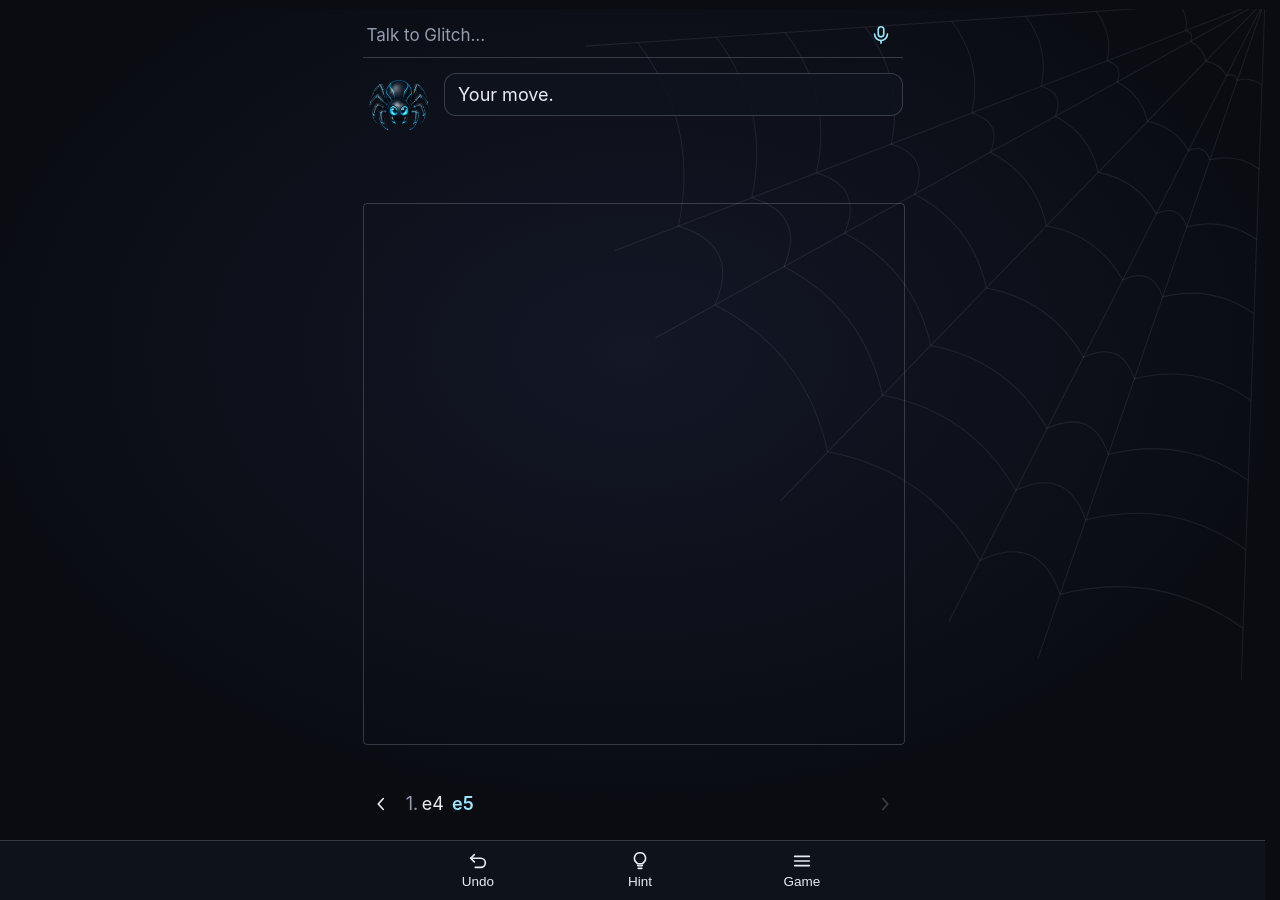
Test case: draw button › offers a draw while nothing is claimable, and relays the answer
Click the button "Game".
click(802, 870)  # box [721,840,883,899]
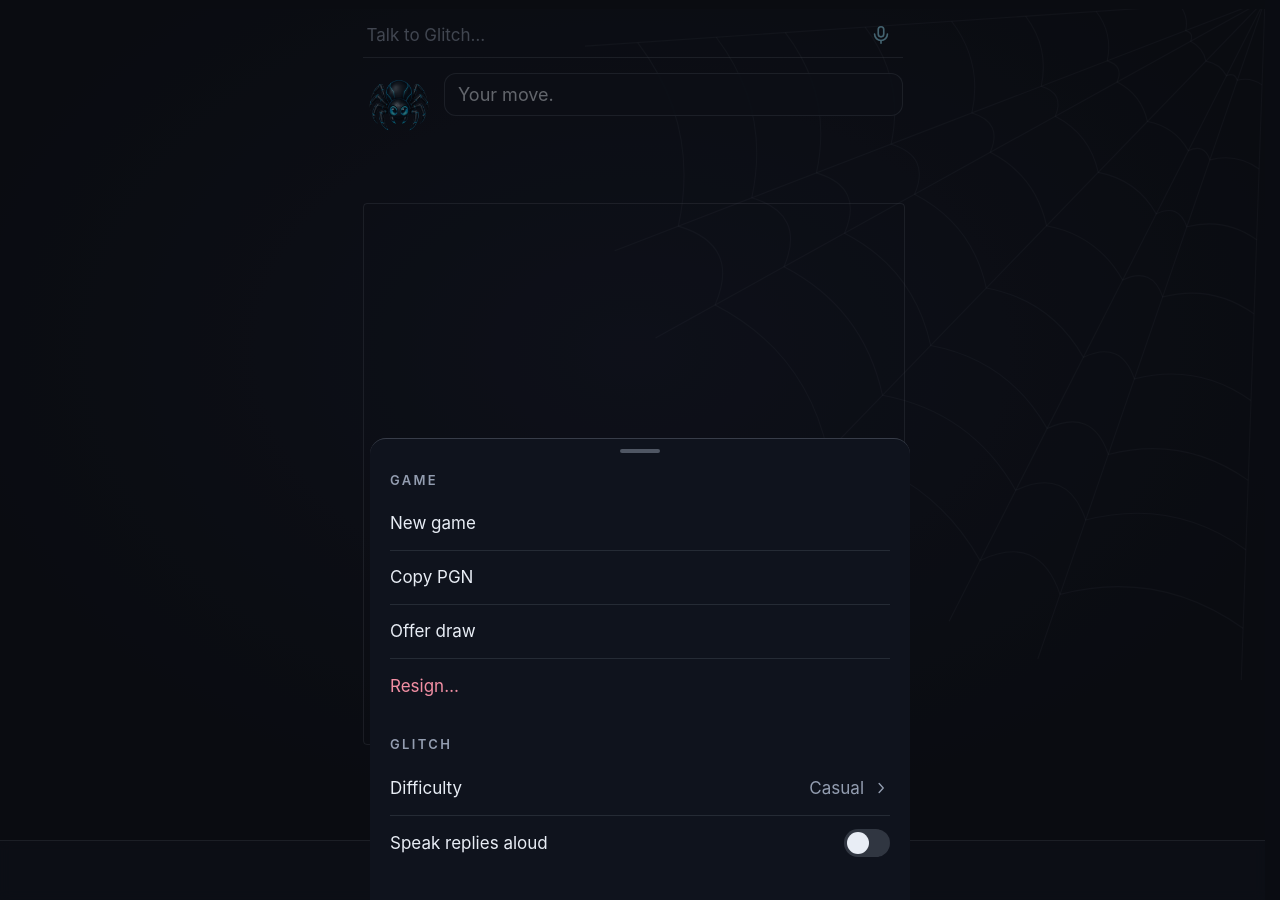
Click the button "Offer draw".
click(433, 631)  # box [390,605,890,659]
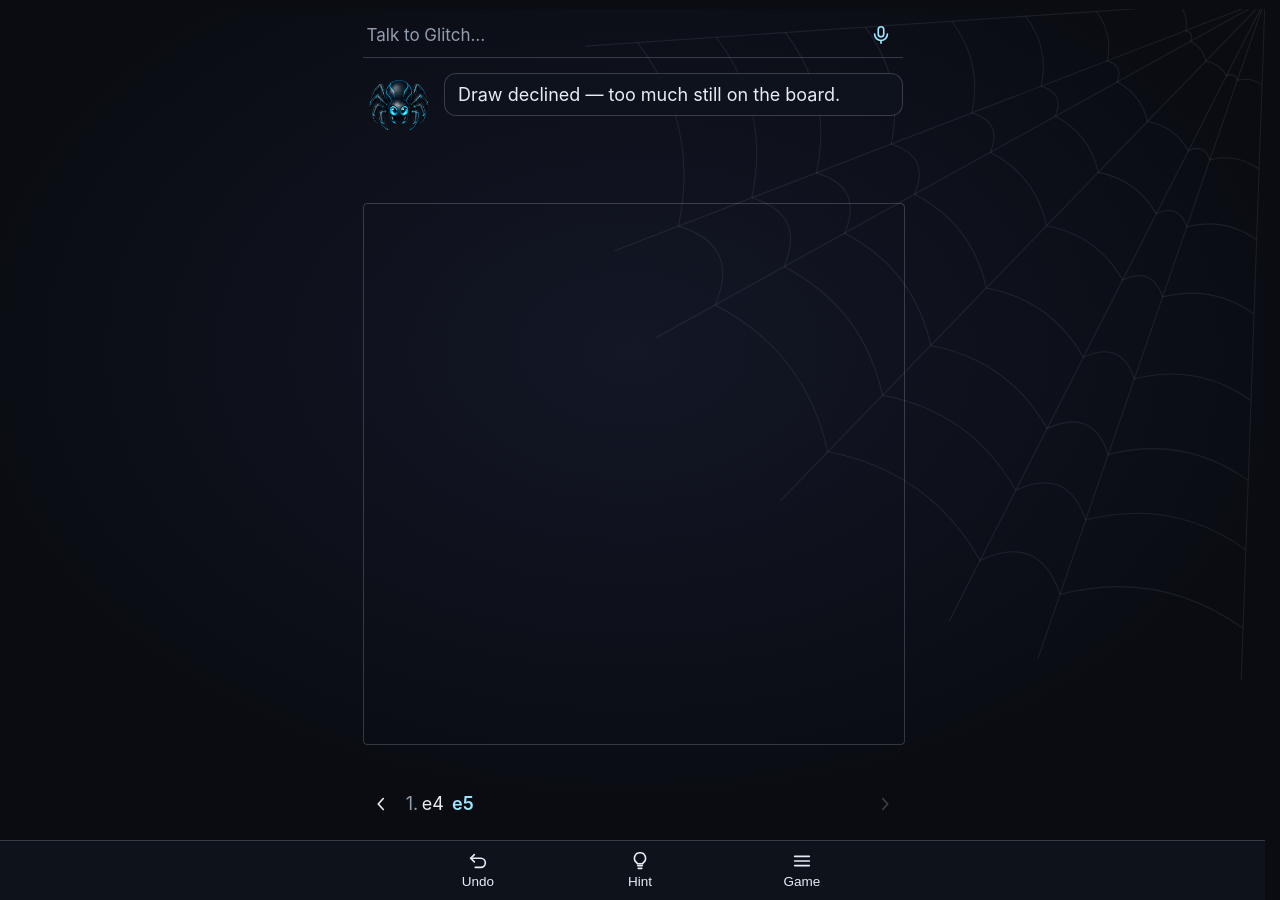
Check: the text "Draw declined — too much still on the board." is shown, box [458,83,888,106]
